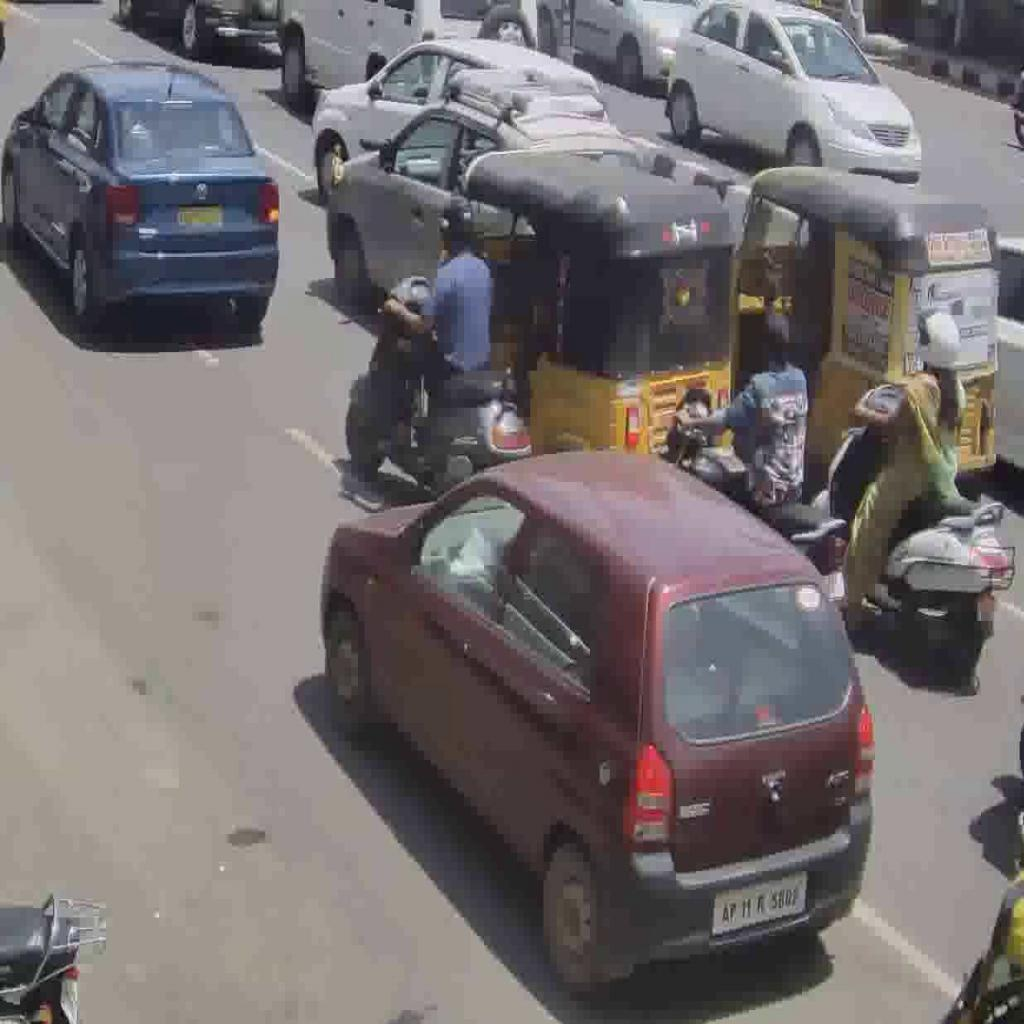helmet: (827, 387, 1016, 665), (344, 272, 529, 486)
